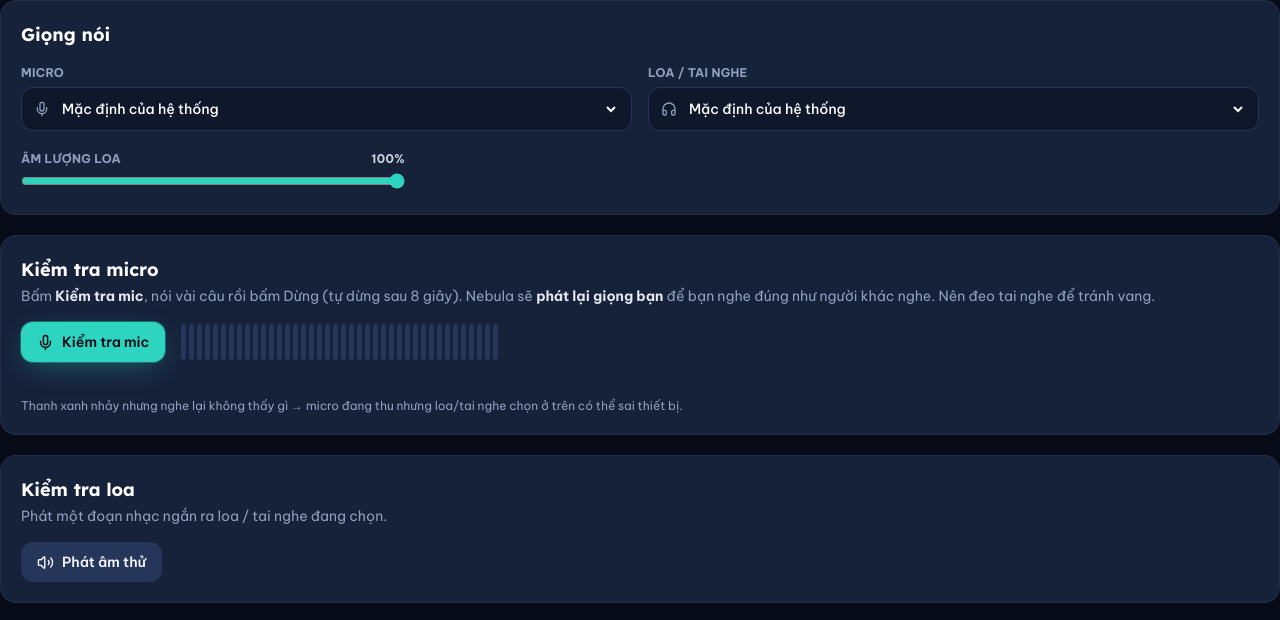
Test: Cài đặt → Giọng nói & Video › micro bị chặn thì báo cách bật, không bị treo
The width and height of the screenshot is (1280, 620).
Click the button "Kiểm tra mic": (93, 342) 21,322 -> 165,362
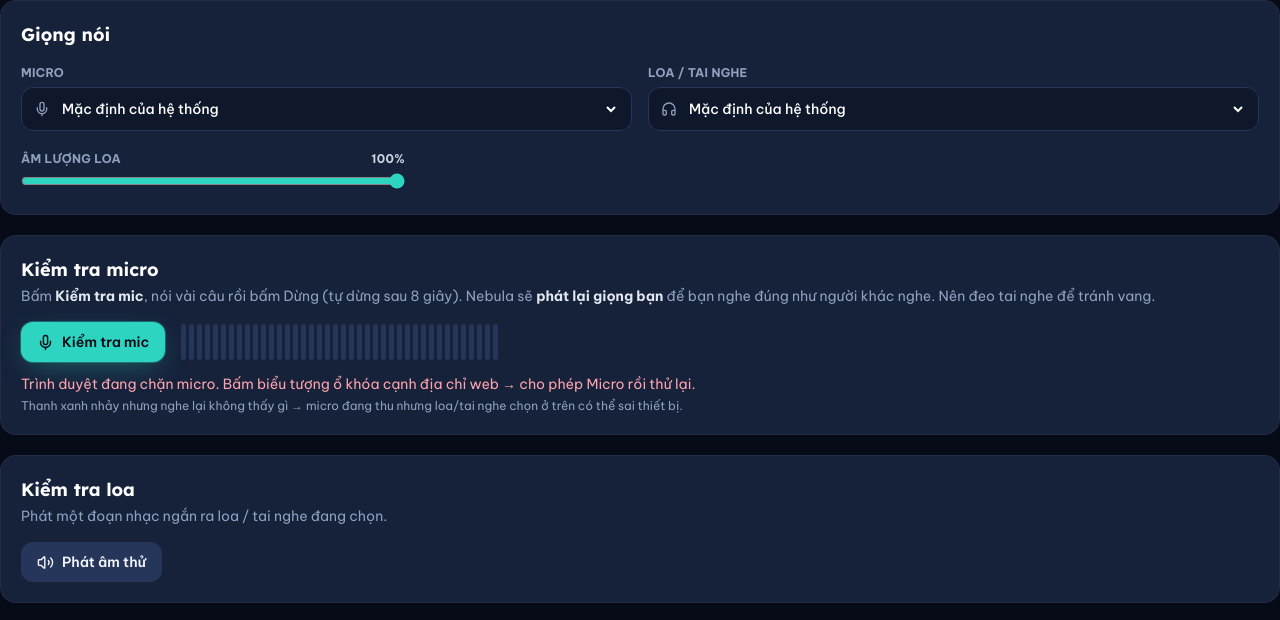
Check: the text "đang chặn micro" is shown, box 21,375 -> 695,393
